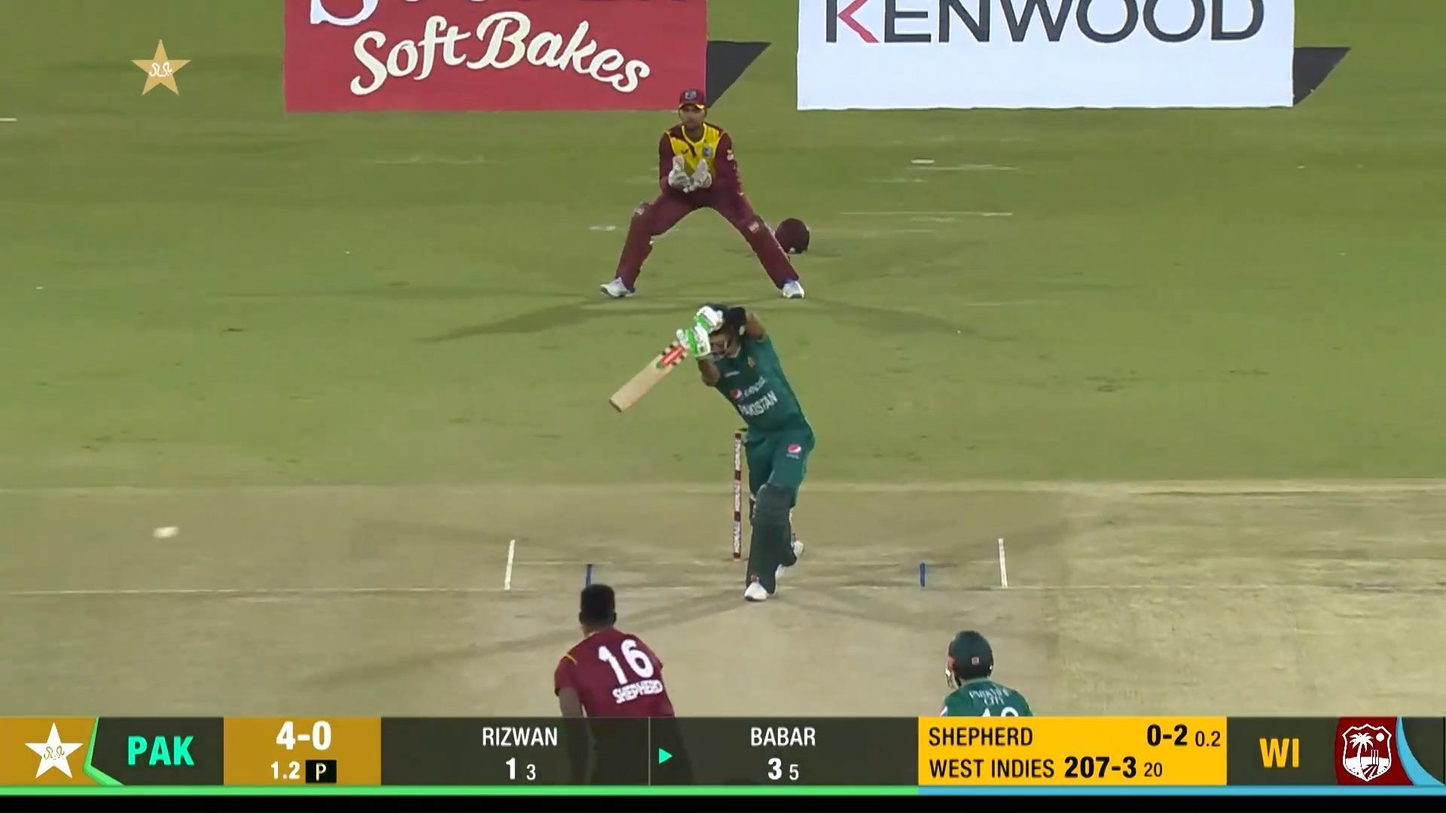BM 1: (609, 300, 817, 601)
BO: (550, 582, 707, 813)
